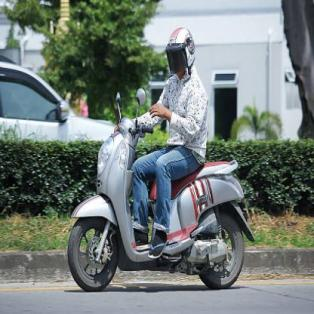Motocicleta: (67, 110, 249, 294)
